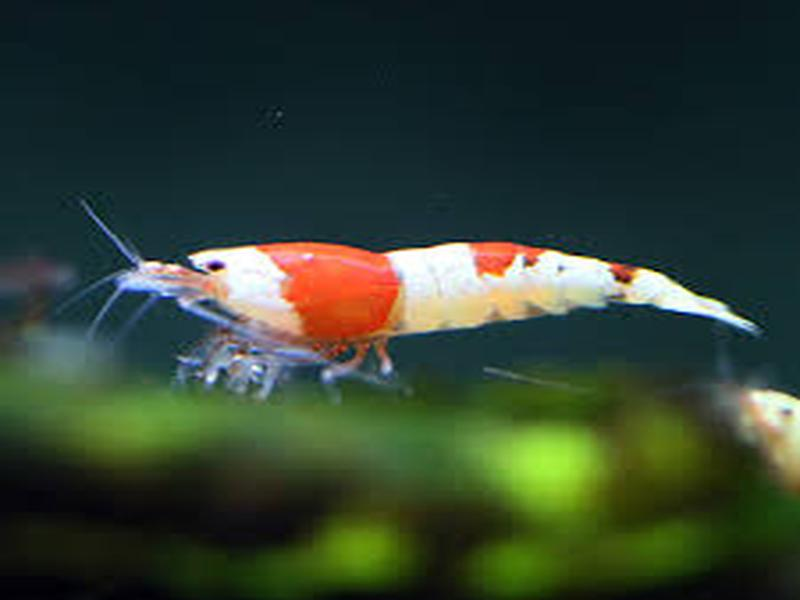shrimp: (118, 238, 762, 339)
